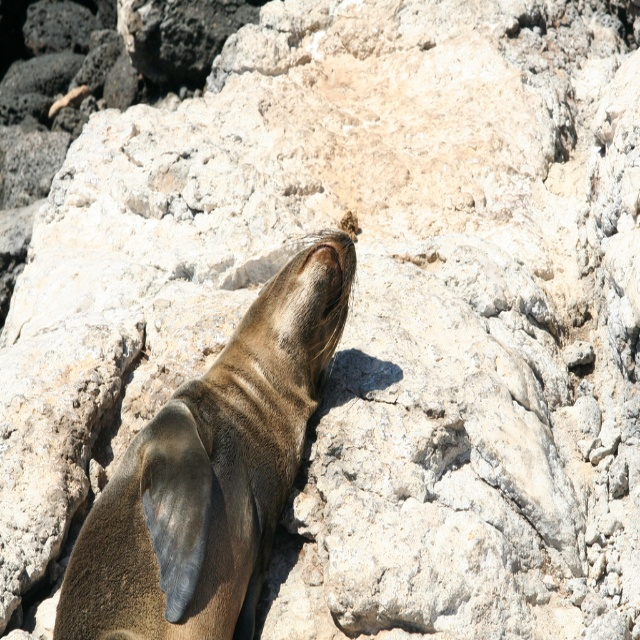Harbor seal: (53, 261, 369, 640)
